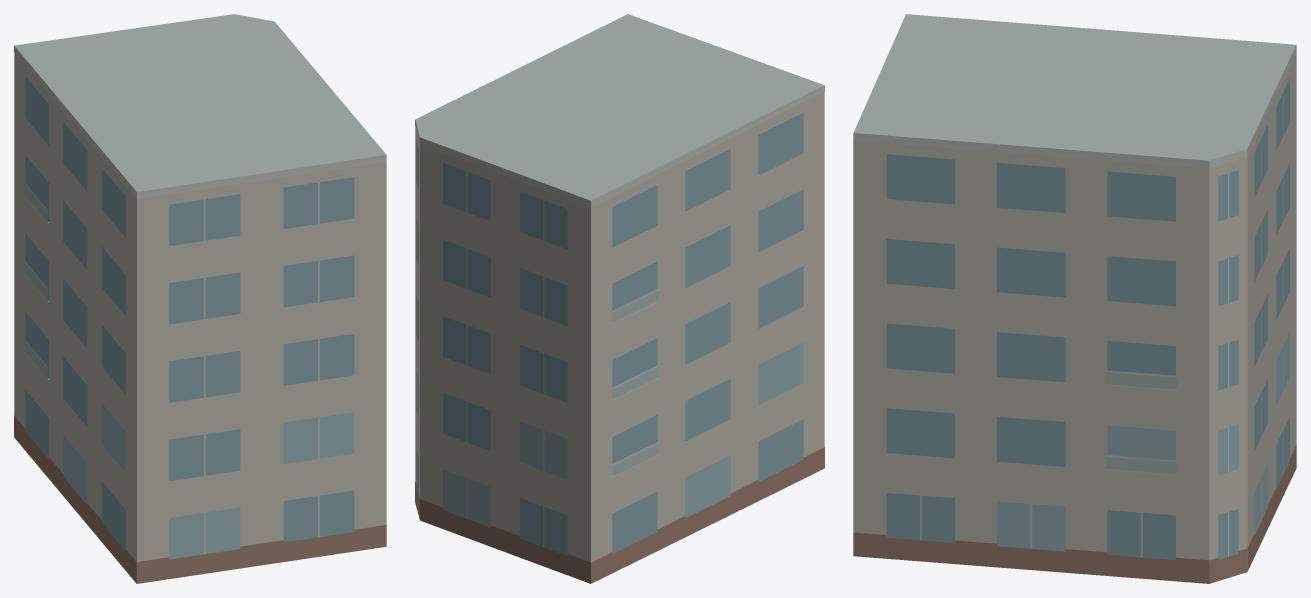
Rendered from survey-upis-32982423.glb.
3 views of the same model, side by side, from view 1: azimuth 30°, elevation 25°; view 2: azimuth 150°, elevation 25°; view 3: azimuth 270°, elevation 25° (orthographic). The views are drawn at different scales.
Visible parts, largest first — view 1: survey-upis-32982423.tmp; view 2: survey-upis-32982423.tmp; view 3: survey-upis-32982423.tmp.
Boxes of the visible parts, left/top/right/bottom form: survey-upis-32982423.tmp: left=14, top=14, right=386, bottom=583; survey-upis-32982423.tmp: left=415, top=14, right=824, bottom=583; survey-upis-32982423.tmp: left=853, top=14, right=1296, bottom=583.
Bounding box in the file's own units: 9.82 × 13.2 × 12.54.
